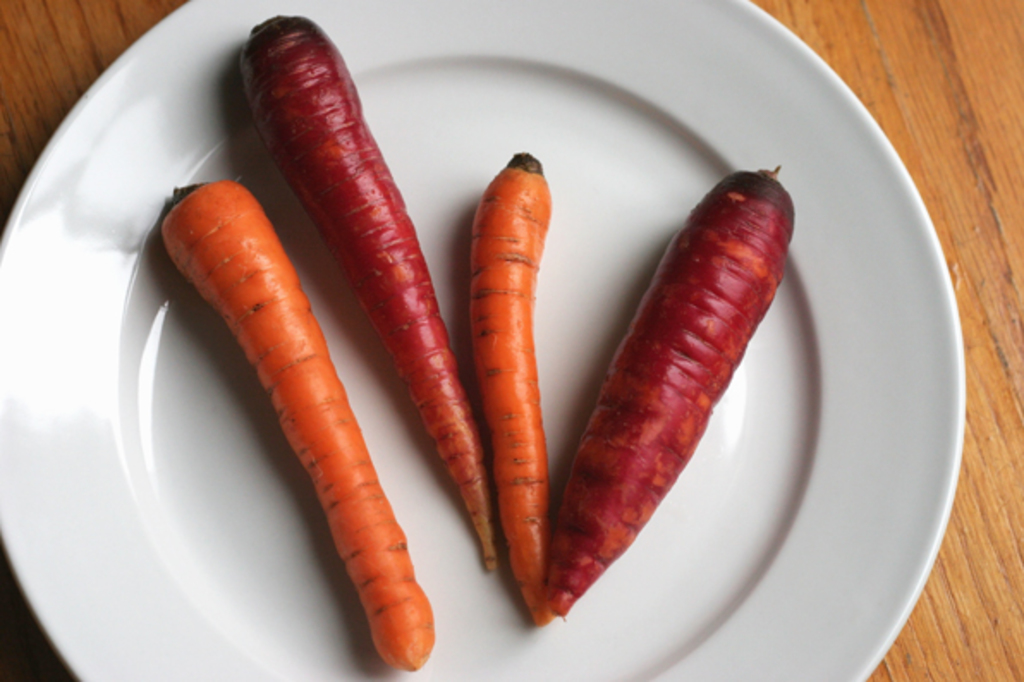Carrot: (160, 15, 794, 671)
